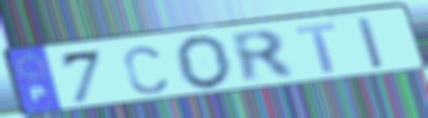7: (56, 49, 108, 105)
C: (121, 44, 170, 97)
I: (354, 15, 389, 72)
O: (173, 33, 235, 92)
R: (226, 28, 300, 86)
T: (292, 21, 340, 76)
